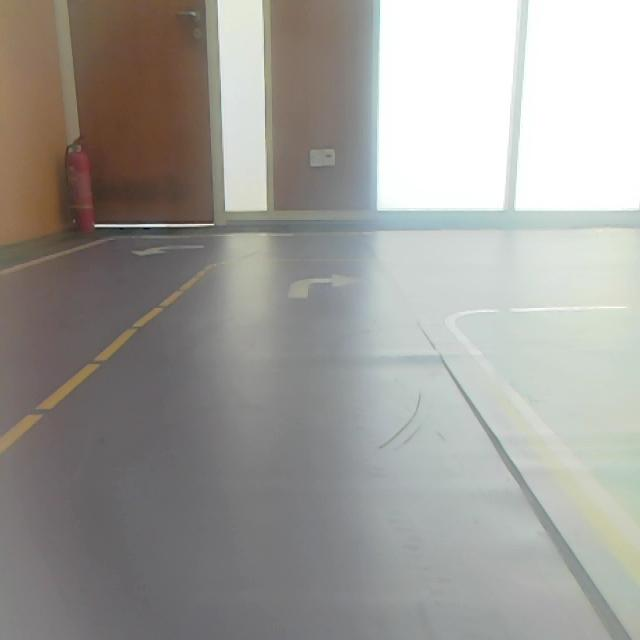left_lane: (0, 267, 215, 460)
right_lane: (450, 322, 640, 584)
